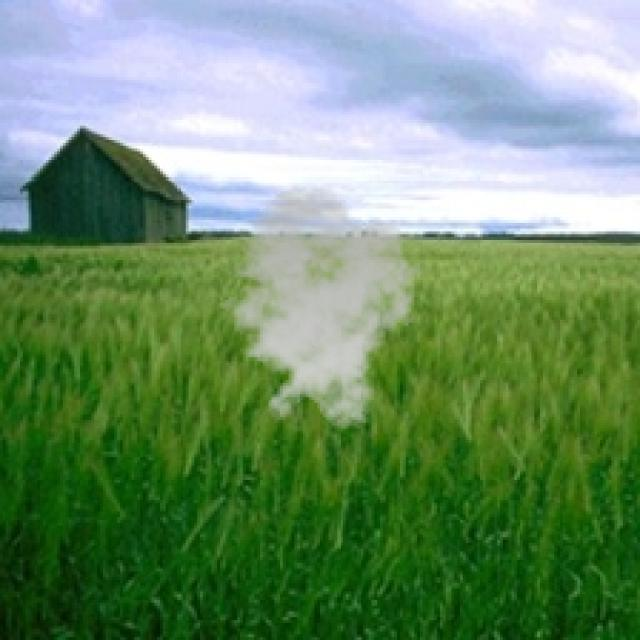smoke: (208, 186, 428, 431)
